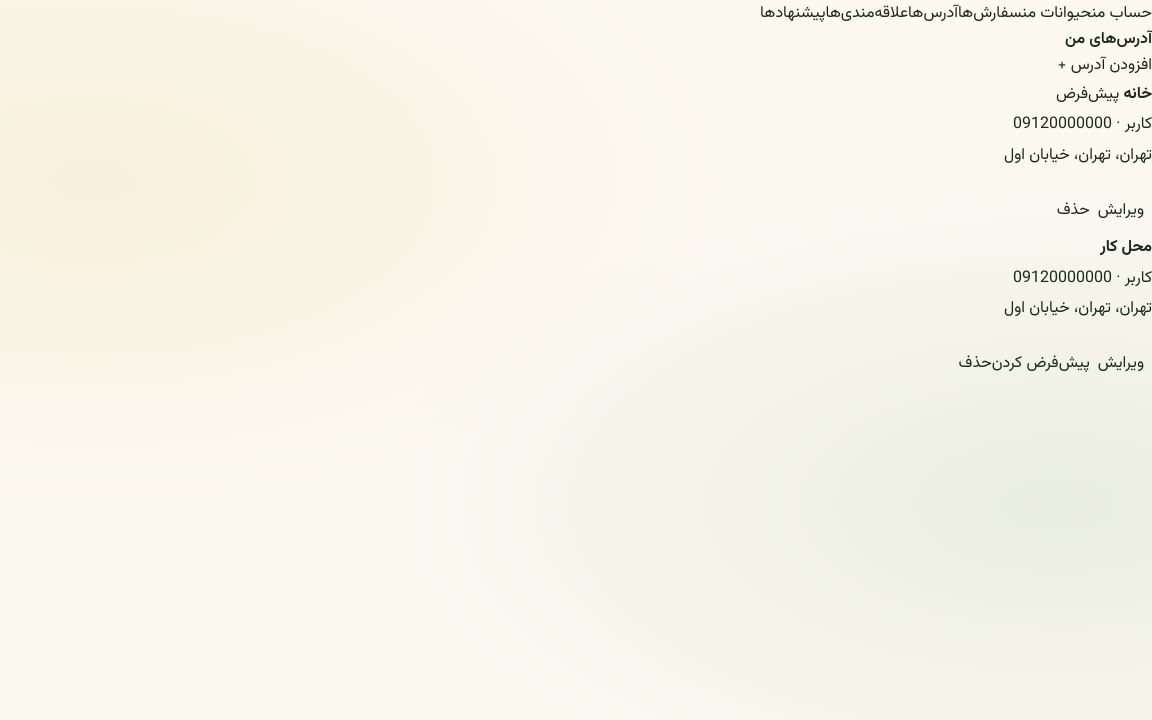
Test: address book mutations › honors delete cancellation then shows success after the server refresh
Expected: the list item that starts with "خانه" is shown, 1004,82 -> 1151,226
Click the button "حذف" below "محل کار": [975, 364] box 958,349 -> 992,380
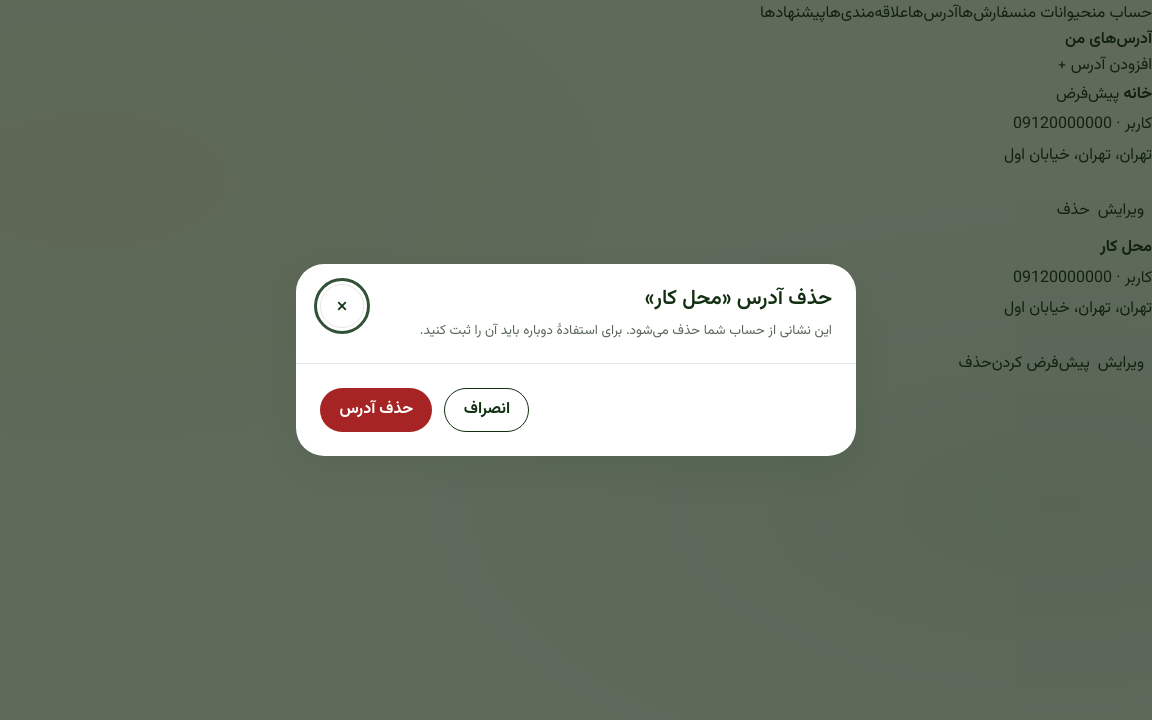
Click the button "انصراف": [487, 410] box 444,388 -> 529,432
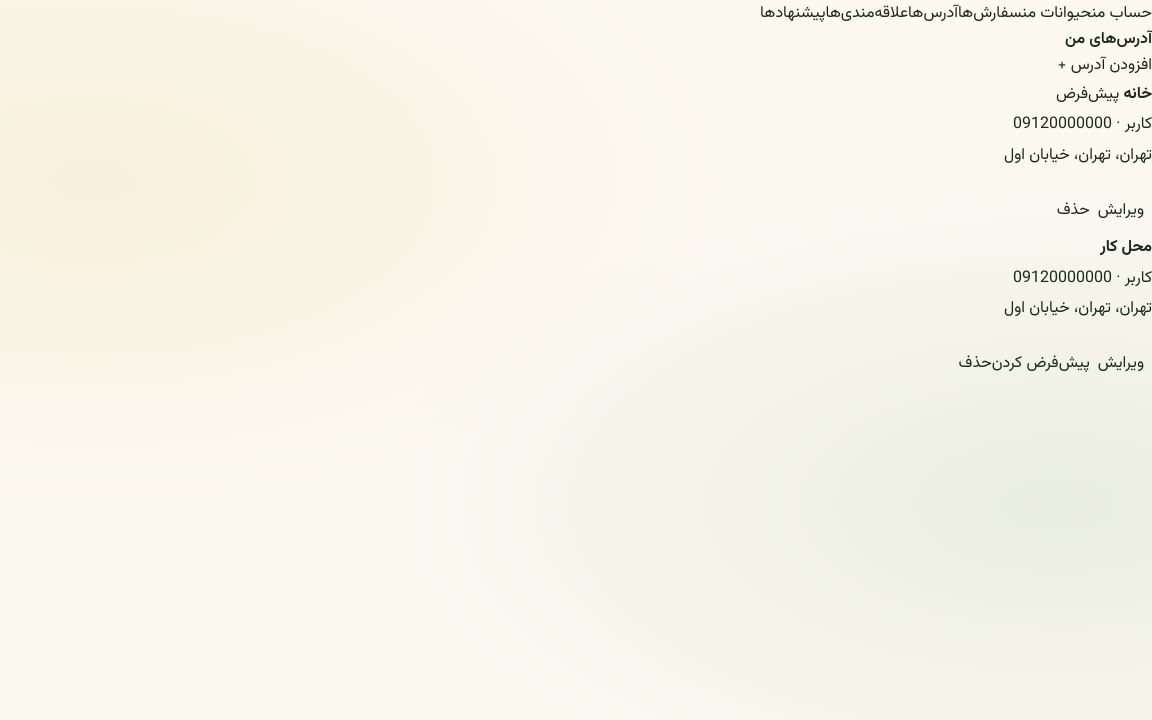
Click the button "حذف" below "محل کار": [975, 364] box 958,349 -> 992,380
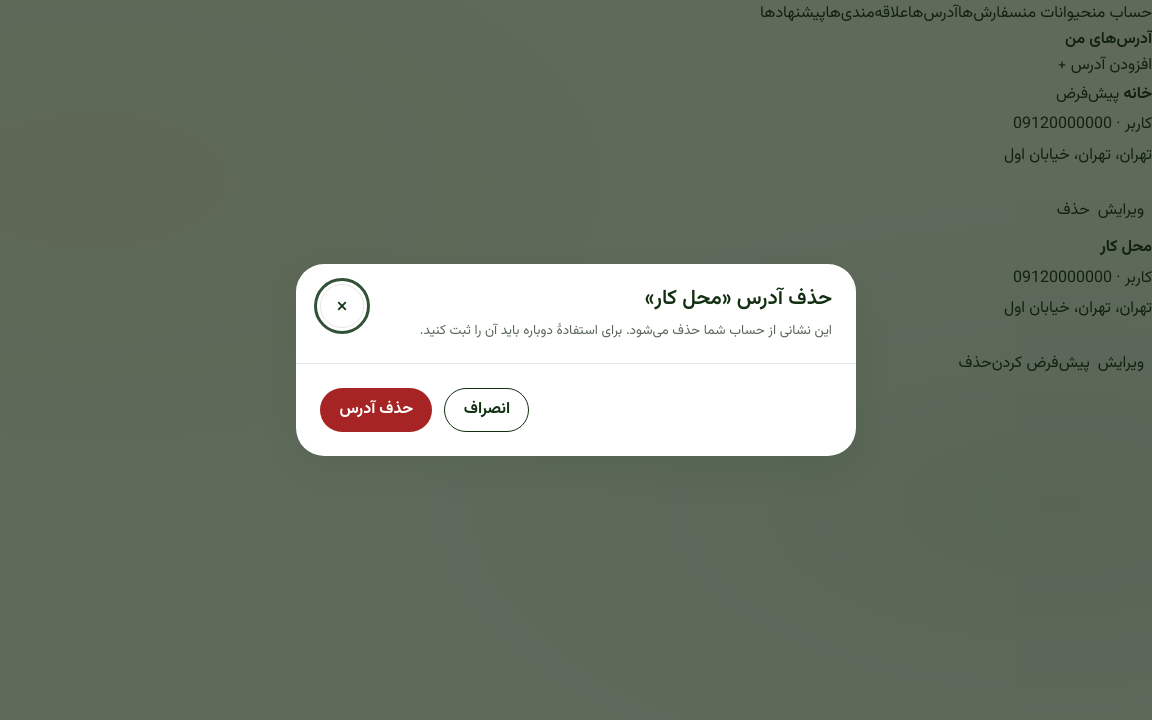
Click the button "حذف آدرس": [376, 410] box 320,388 -> 432,432
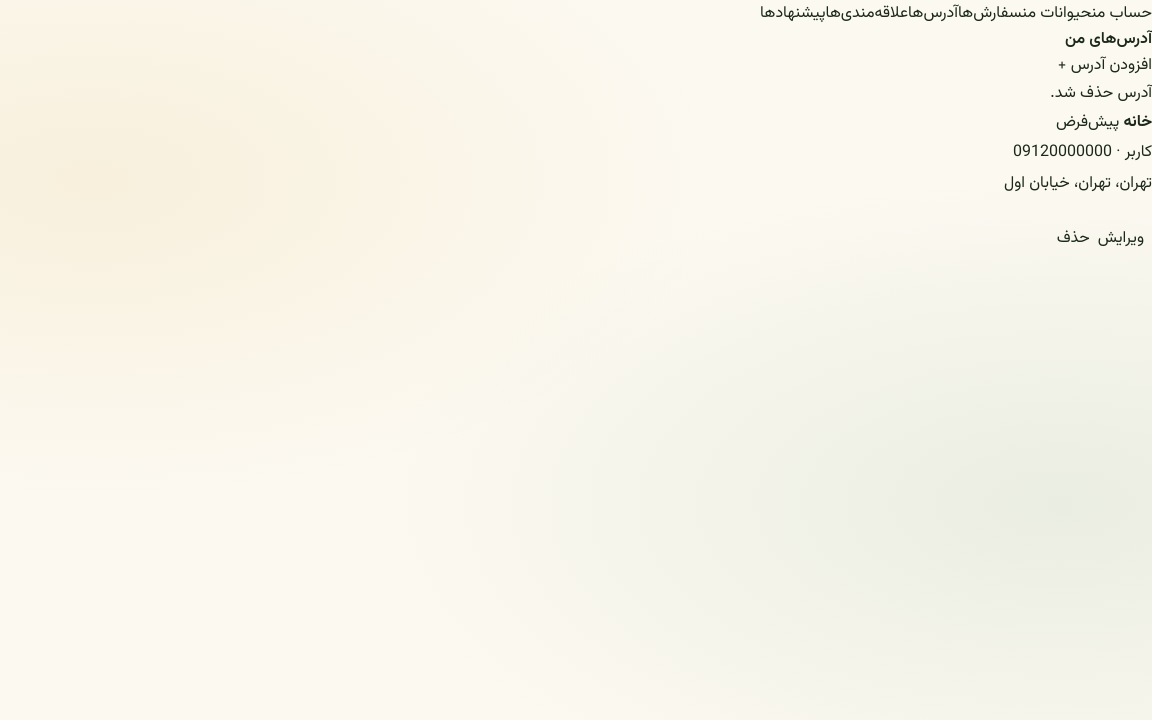
Result: the message "آدرس حذف شد." is shown at 1050,81 -> 1151,106
Result: the text "محل کار" is gone
